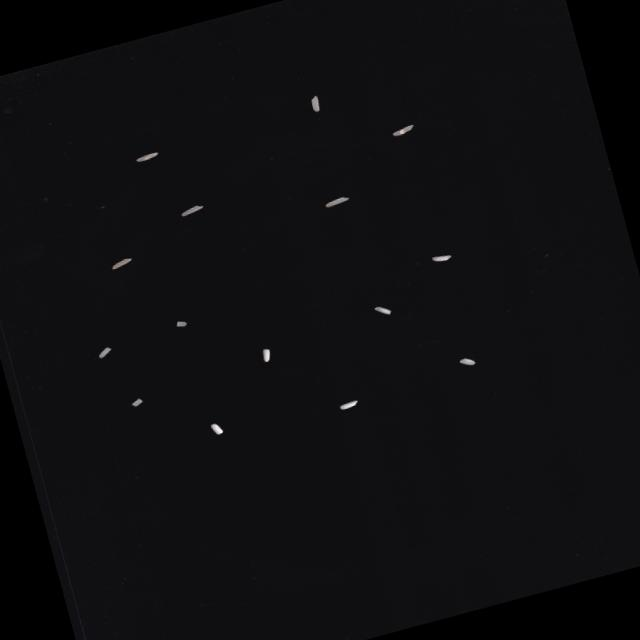Chalky: (372, 302, 390, 317), (457, 354, 475, 366), (430, 252, 451, 262)
Not: (178, 202, 204, 216), (322, 194, 349, 207), (390, 122, 415, 136), (133, 150, 158, 162), (108, 256, 132, 268), (208, 420, 223, 436), (95, 344, 112, 358), (337, 398, 358, 409), (308, 94, 320, 112), (260, 346, 272, 362), (128, 396, 144, 407), (174, 318, 186, 328)
